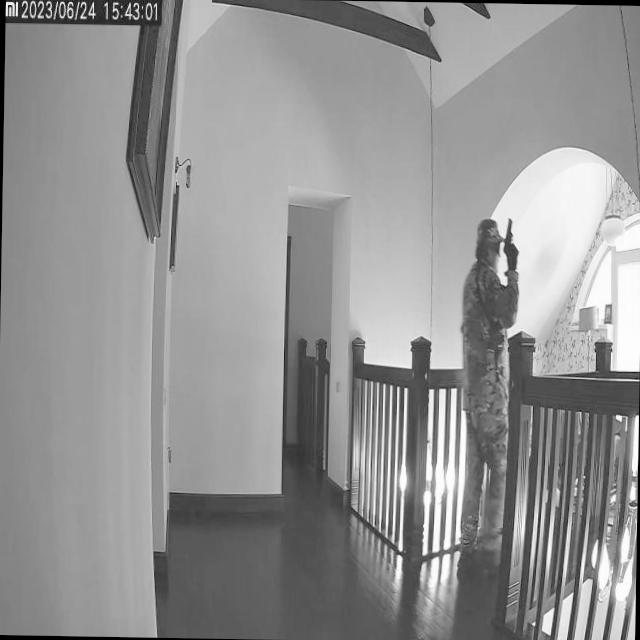gun: (502, 218, 520, 258)
person with a gun: (456, 216, 518, 563)
